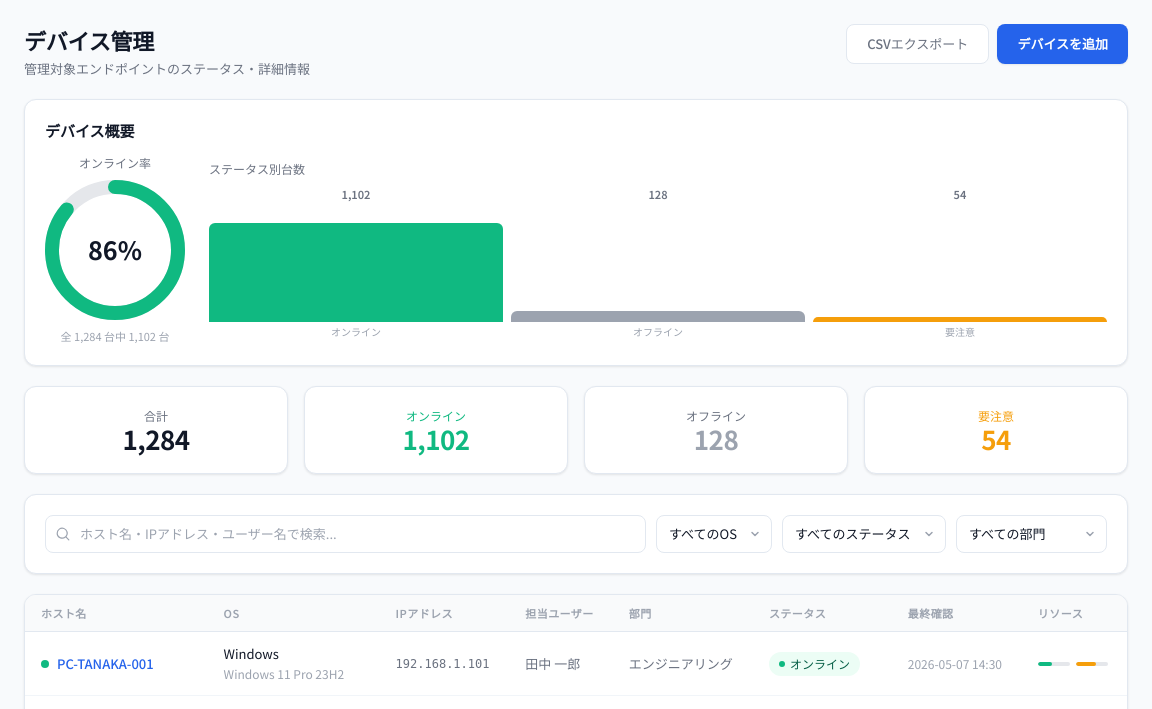
Test: DevicesPage - OS フィルター › Linux フィルターを選択すると Linux デバイスだけが表示される
Select "Linux" in the 1st dropdown showing "すべてのOS" at (714, 534), box [656,515,772,553]
(page scrolled)
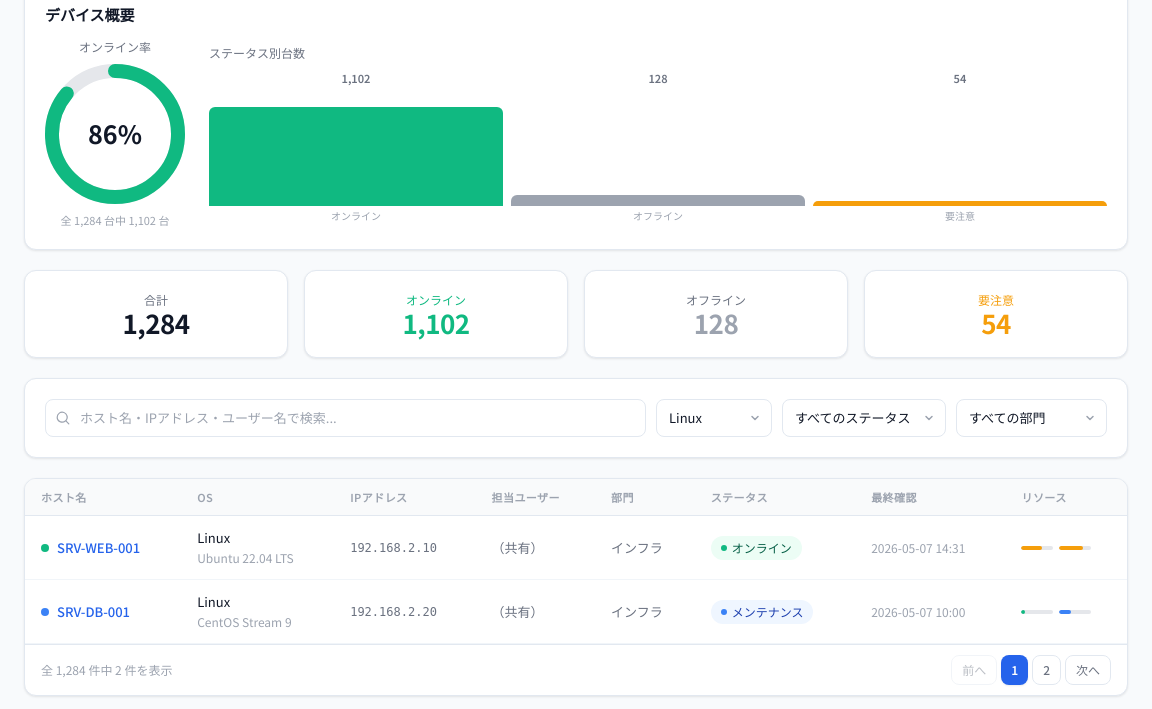
Expected: the text "SRV-WEB-001" is shown, [57,538,140,557]
Expected: the text "PC-TANAKA-001" is gone
